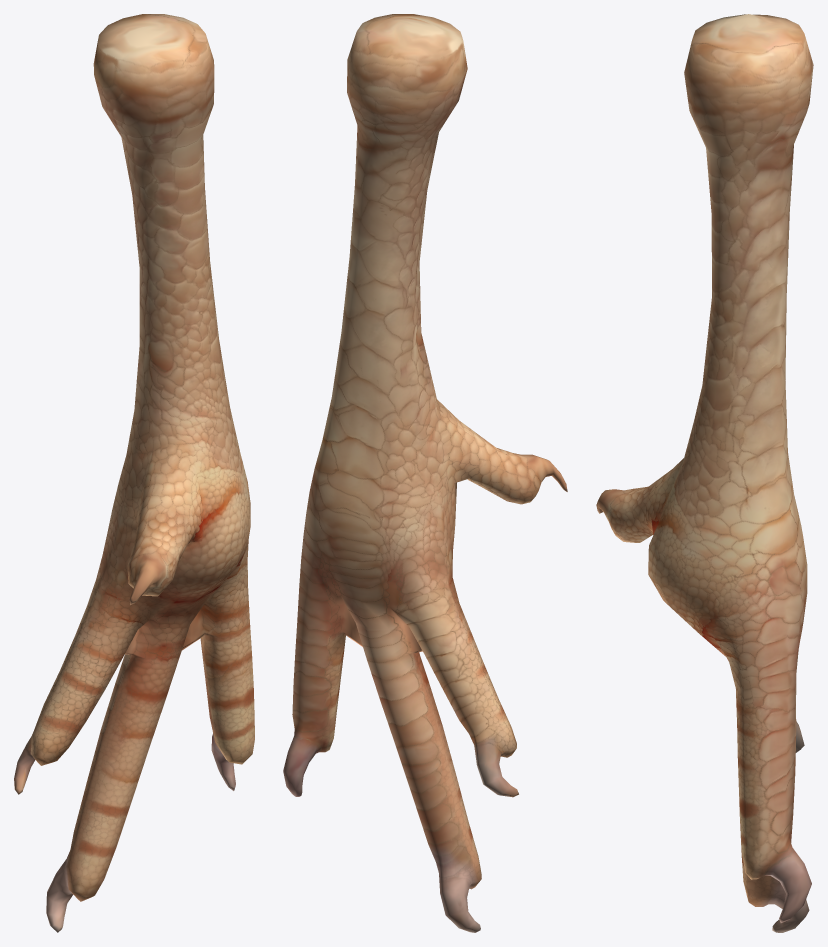
The model's file is feet.glb.
3 renders of one model, left to right at view 1: azimuth 30°, elevation 25°; view 2: azimuth 150°, elevation 25°; view 3: azimuth 270°, elevation 25°, orthographic. The views are drawn at different scales.
Visible parts, largest first — view 1: _gltfNode_0; view 2: _gltfNode_0; view 3: _gltfNode_0.
Part boxes in pixels (x1,y1,x2,y2): _gltfNode_0: [14, 14, 254, 932]; _gltfNode_0: [283, 14, 567, 932]; _gltfNode_0: [596, 14, 813, 932].
Size of the model in its own units: 0.0177 by 0.0653 by 0.0135.
1 material, 1 textured.
